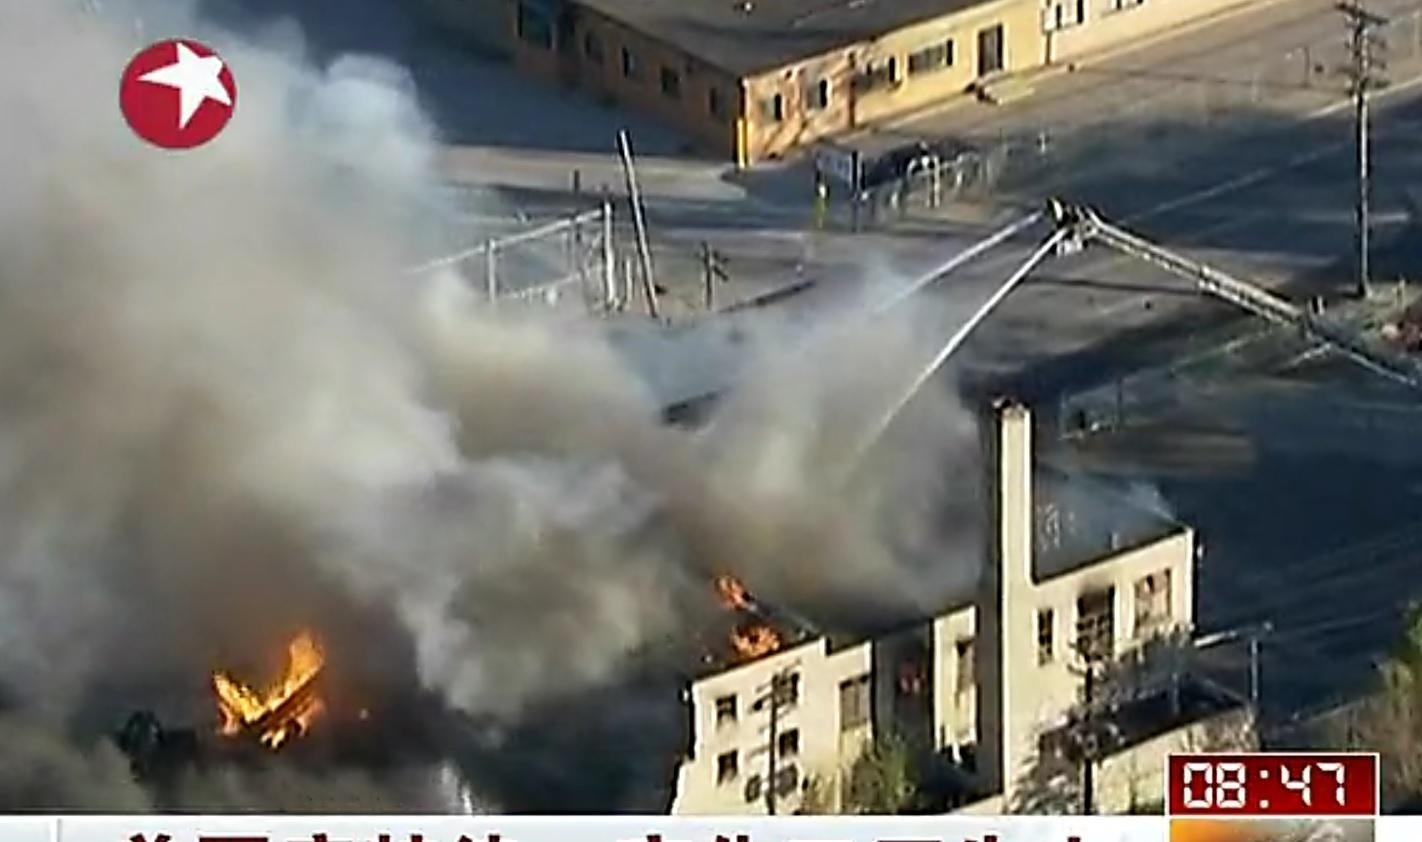fire: (209, 626, 327, 746), (712, 573, 778, 658)
